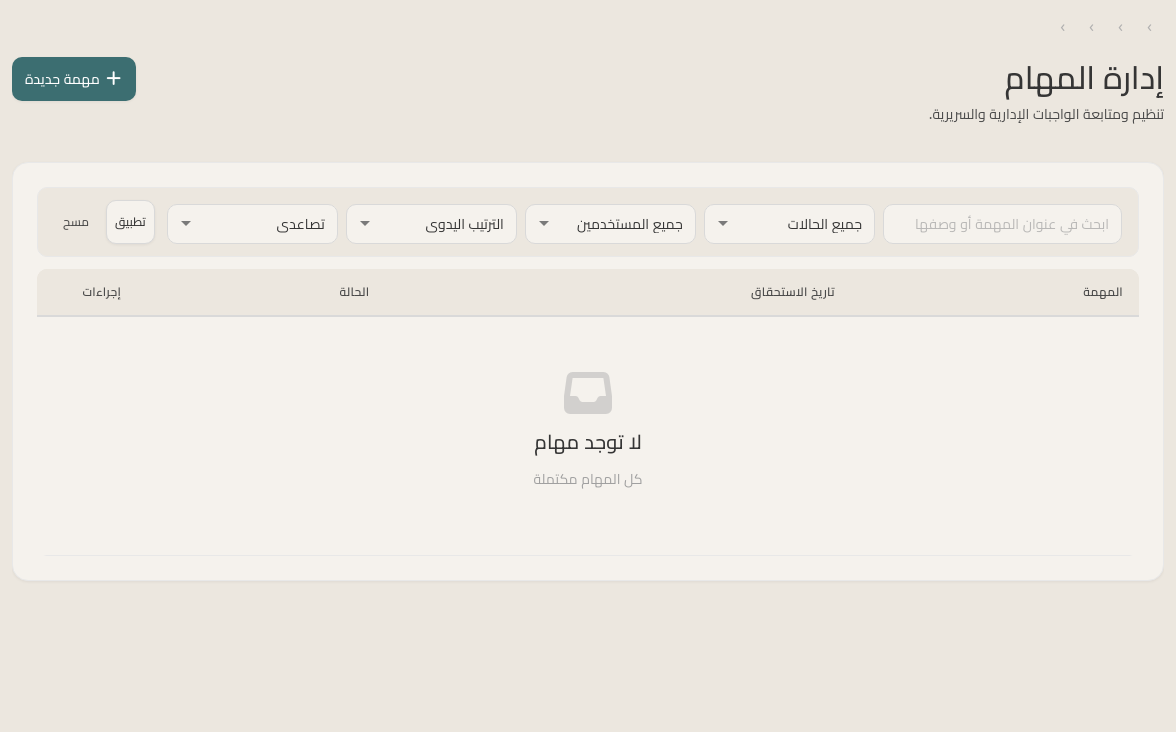
Scenario: rendered task creation uses the real store and service › creates from the page with optional due date
Click the button "مهمة جديدة" at coordinates (74, 79), box [12,57,136,101]
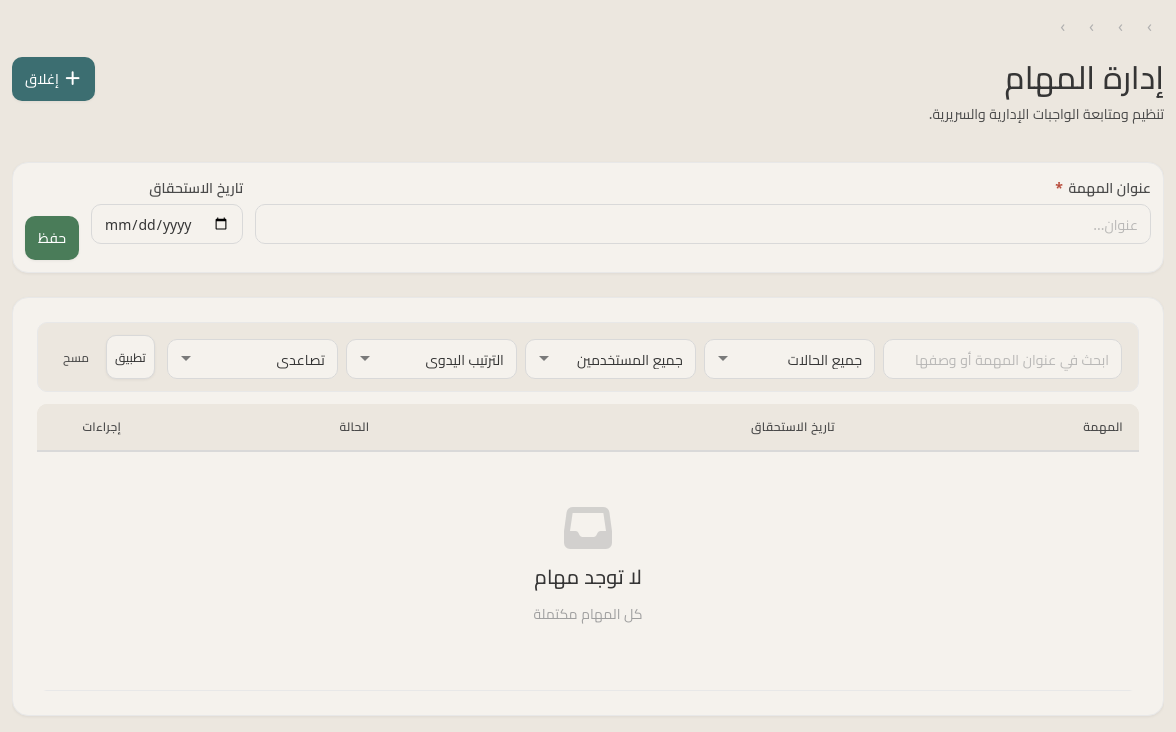
Type "Synthetic new task" into the field labelled "عنوان المهمة *" at coordinates (703, 224), box [255,204,1151,244]
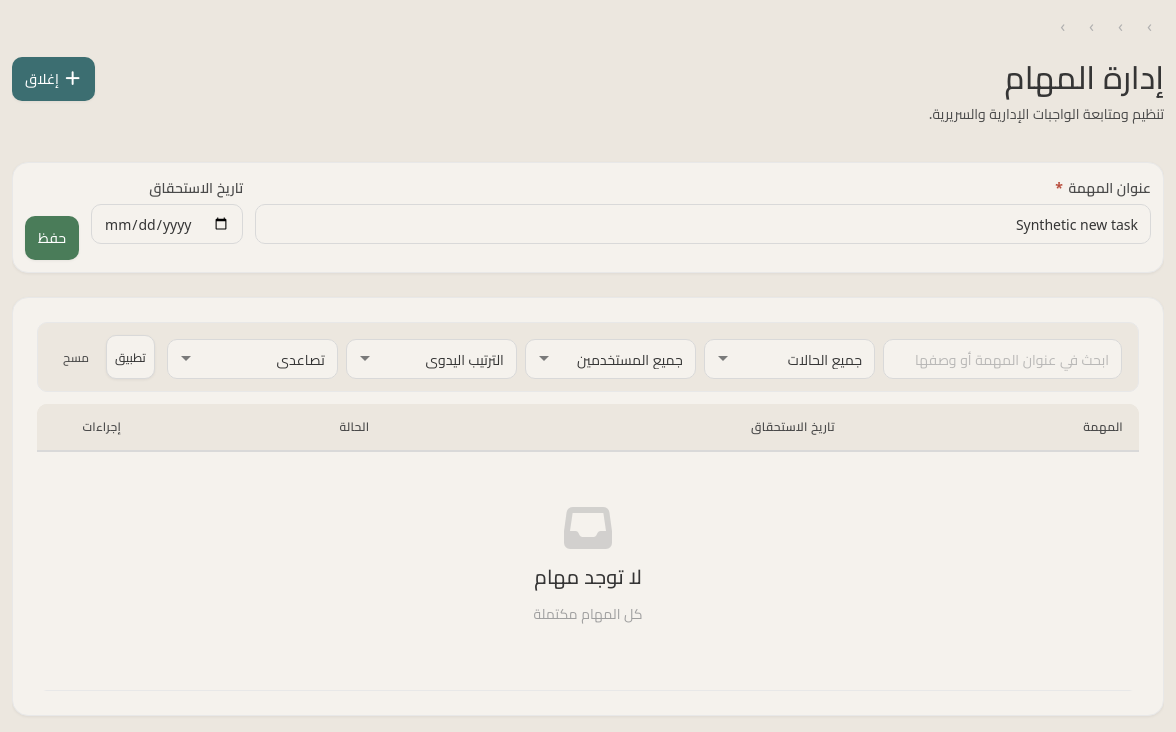
Submit the form, box [25,175,1151,260]
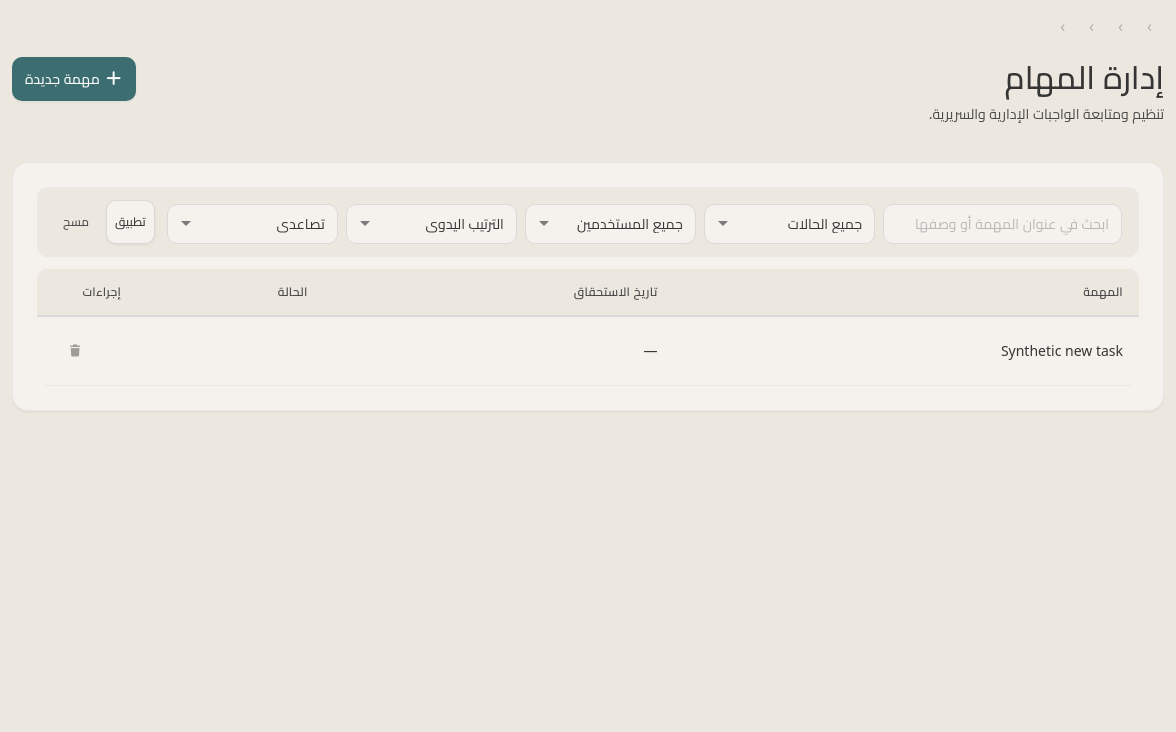
expect the table shows "Synthetic new task": met, box [1001,341,1123,360]
